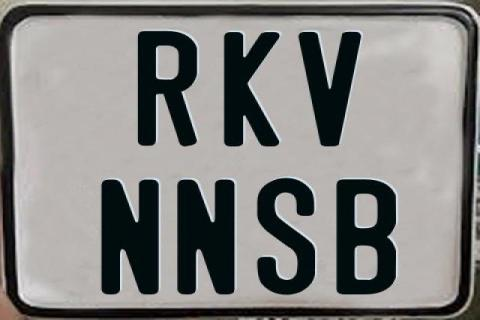B: (334, 179, 395, 295)
K: (223, 32, 281, 150)
N: (99, 177, 160, 297), (177, 177, 237, 297)
R: (137, 31, 197, 149)
S: (256, 176, 318, 294)
V: (296, 31, 364, 151)
